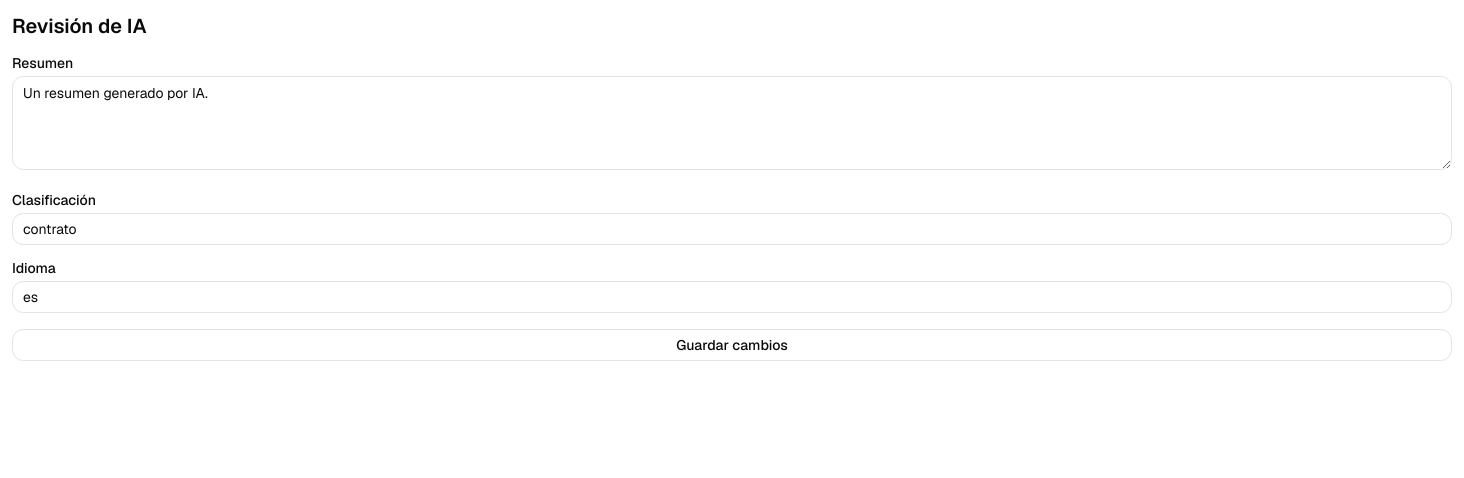
Test: ReviewStep (spec: AI Analysis Display + Review Edit) › submits only the changed field(s) to PATCH .../review and shows a saved confirmation after 204
The width and height of the screenshot is (1464, 478).
Replace the text in the text box labelled "Resumen" with "Resumen editado por el revisor.". click: (732, 123)
box: [12, 76, 1452, 170]
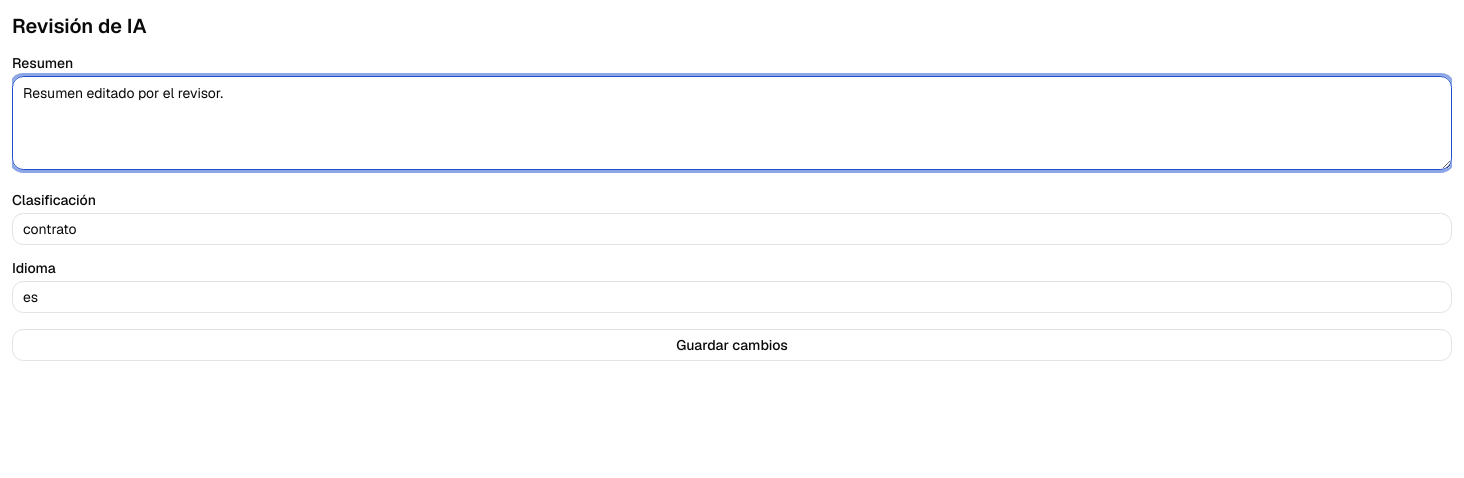
Click the button "Guardar cambios". click: click(732, 345)
box: [12, 329, 1452, 361]
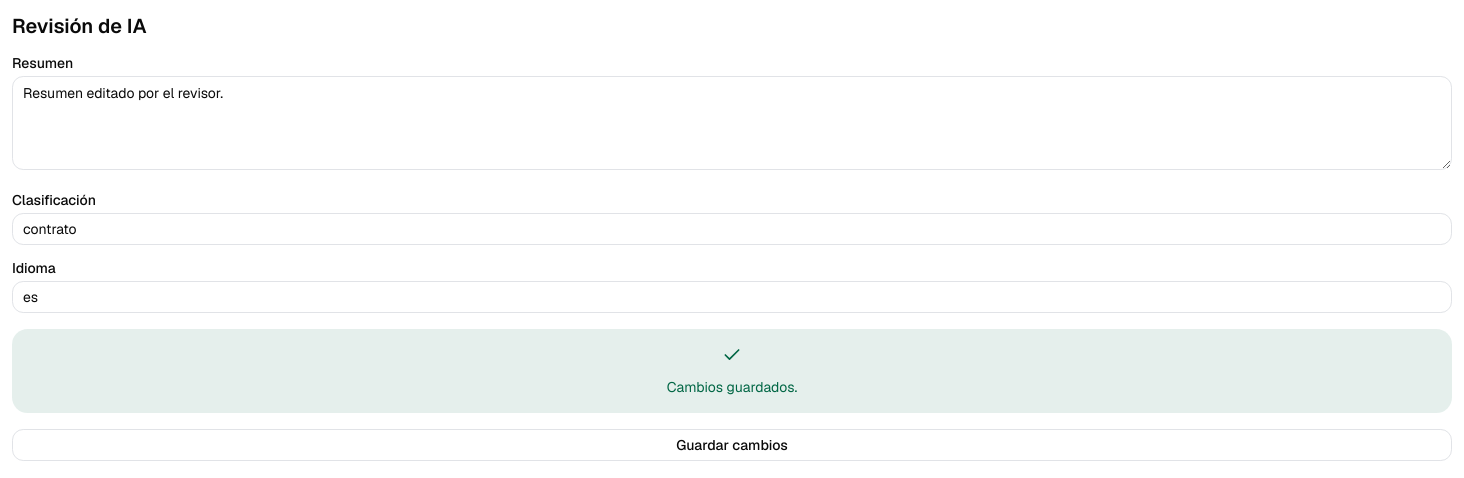
Expected: the text "Cambios guardados." is shown, [667, 377, 797, 397]
